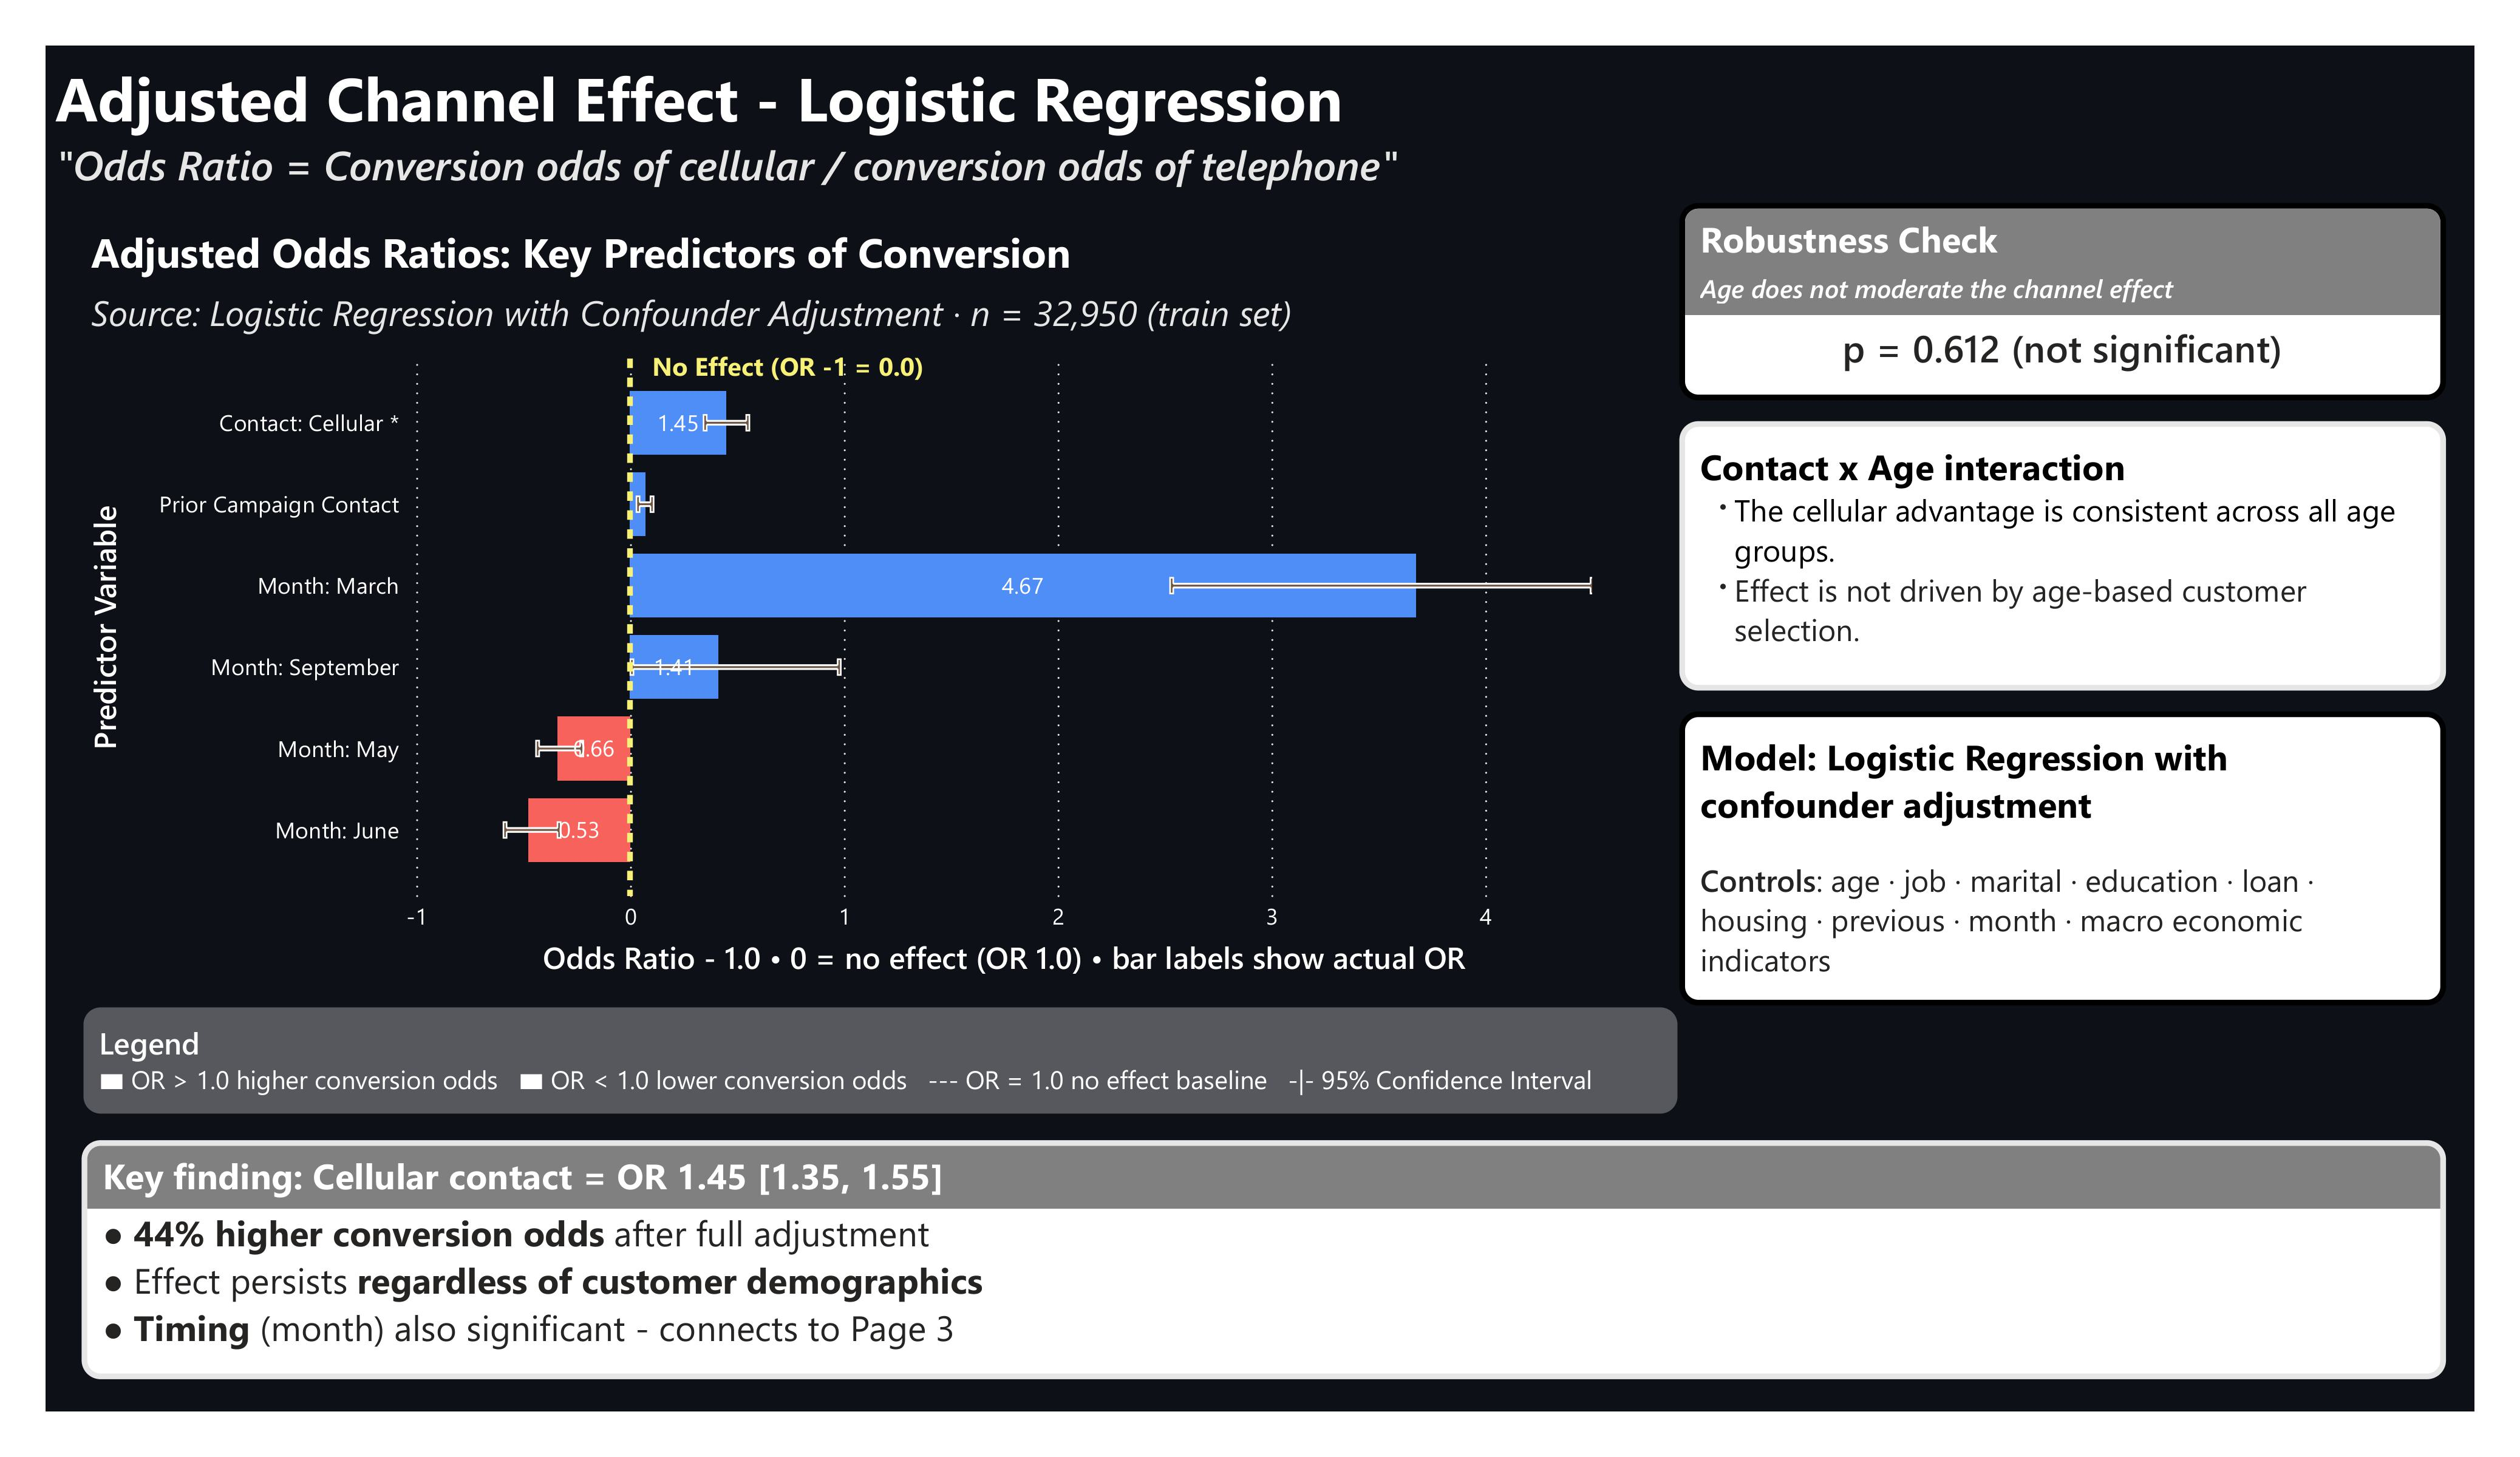

This screenshot's page, from the dashboard's own definition file:
{"tool":"powerbi","page":{"name":"Regression Adjustment","canvas":[1280,720],"ordinal":1},"visuals":[{"type":"textbox","box":[0,0,1280.4,83.3],"z":0},{"type":"clusteredBarChart","title":"Adjusted Odds Ratios: Key Predictors of Conversion","fields":{"Category":["glm_main_coefficients.display_name"],"Y":["glm_main_coefficients.OR_centered"]},"box":[19.3,94.2,804.5,402.2],"z":1000},{"type":"textbox","box":[19,506,842,58],"z":2000},{"type":"kpi","title":"Robustness Check","fields":{"Indicator":["Sum(glm_interaction_coefficients.p_value)"],"TrendLine":["glm_interaction_coefficients.term"]},"box":[861,83,404,104],"z":3000},{"type":"textbox","box":[861,198,404,142],"z":4000},{"type":"textbox","title":"Key finding: Cellular contact = OR 1.45 [1.35, 1.55]","box":[19.3,577.4,1245.4,125.6],"z":5000},{"type":"textbox","box":[861,351,404,155],"z":6000},{"type":"textbox","box":[297.2,154.8,184.8,32.5],"z":7000}]}

Visuals, with their boxes on the page's 1280x720 design canvas (x1, y1, x2, y2). These are canvas units, not pixel positions in the 2520x1457 screenshot, which may show the page scaled, cropped or inside an application window:
textbox: l=0, t=0, r=1280, b=83
"Adjusted Odds Ratios: Key Predictors of Conversion" clusteredBarChart: l=19, t=94, r=824, b=496
textbox: l=19, t=506, r=861, b=564
"Robustness Check" kpi: l=861, t=83, r=1265, b=187
textbox: l=861, t=198, r=1265, b=340
"Key finding: Cellular contact = OR 1.45 [1.35, 1.55]" textbox: l=19, t=577, r=1265, b=703
textbox: l=861, t=351, r=1265, b=506
textbox: l=297, t=155, r=482, b=187
